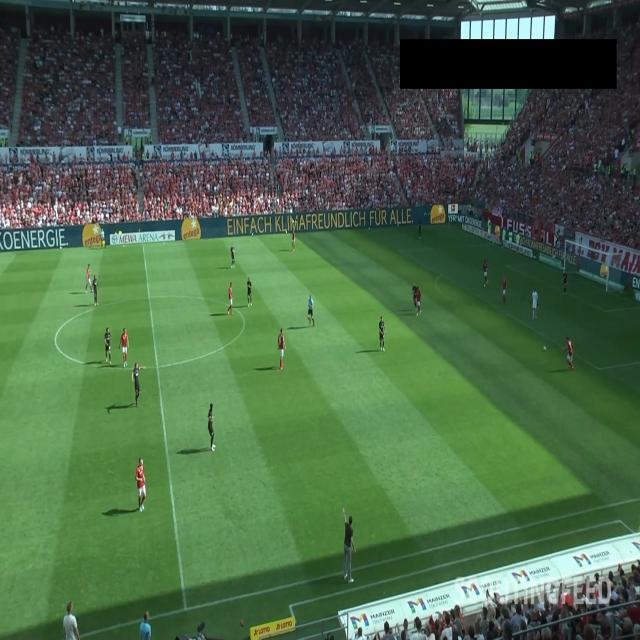ball: (543, 346, 546, 352)
